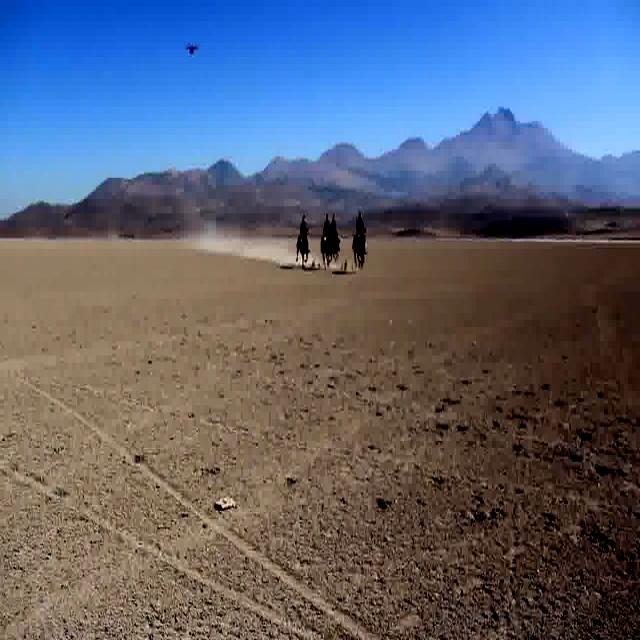drone: (182, 33, 200, 61)
